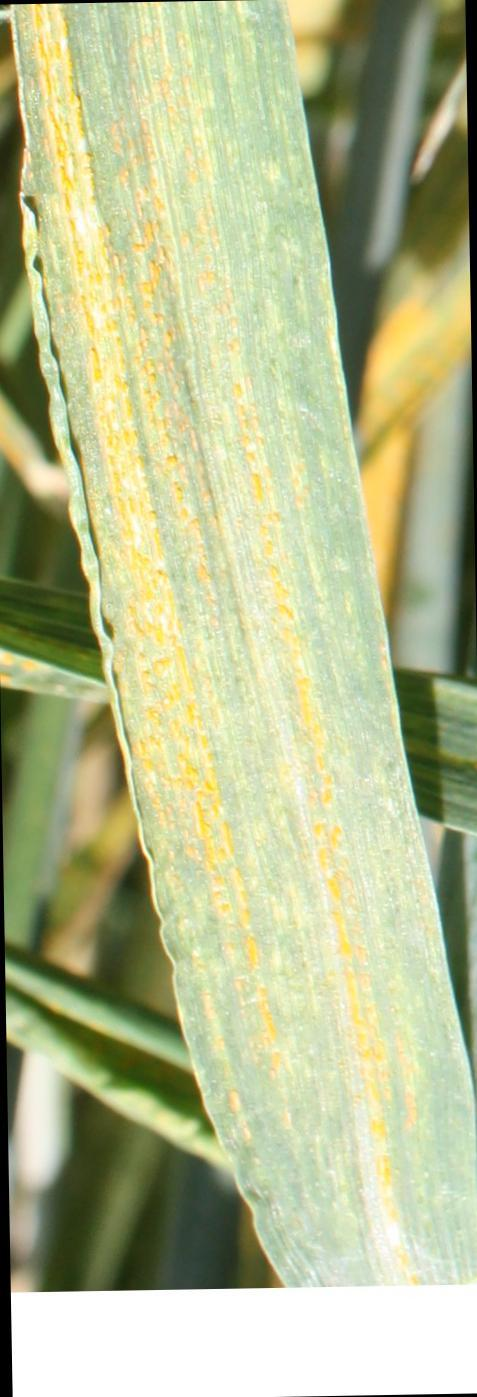Wheat: (9, 33, 304, 1062)
